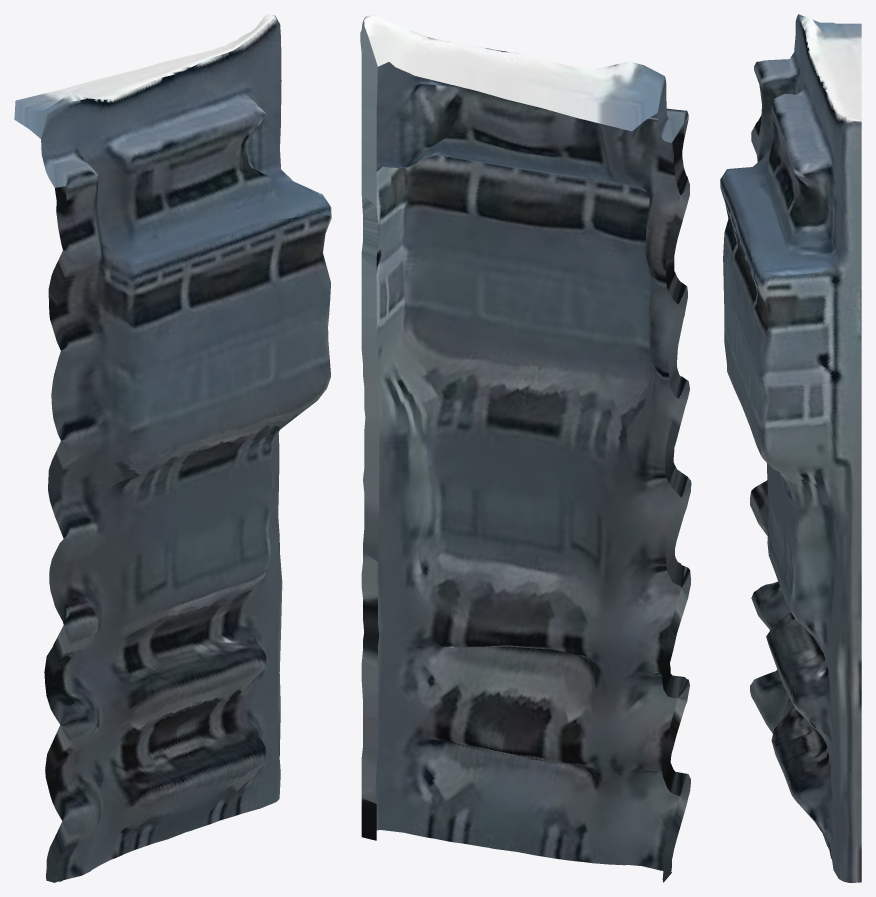
File: z20-167716-405197-h1-yup-uvflip-v3-world.glb
The picture shows the model from 3 angles, left to right: view 1: azimuth 30°, elevation 25°; view 2: azimuth 150°, elevation 25°; view 3: azimuth 270°, elevation 25°; orthographic projection. The views are drawn at different scales.
Bounding box in the file's own units: 9.04 × 25.12 × 4.2.
Materials: 1 (1 with a texture image).
